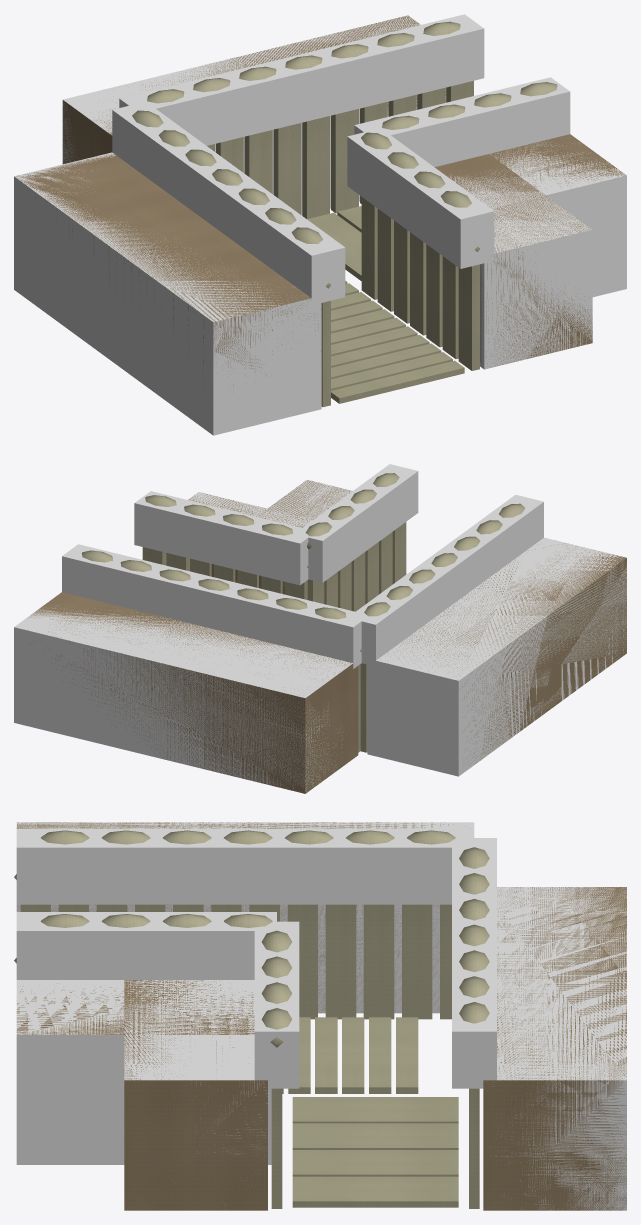
Rendered from TrenchCorner.fbx.
The picture shows the model from 3 angles, top to bottom: view 1: azimuth 30°, elevation 25°; view 2: azimuth 150°, elevation 25°; view 3: azimuth 270°, elevation 25°; orthographic projection. The views are drawn at different scales.
Visible parts, largest first — view 1: COL_Static, LOD0; view 2: COL_Static, LOD0; view 3: COL_Static, LOD0.
Part boxes in pixels (<box>): COL_Static: <box>14,14,626,435</box>; LOD0: <box>16,15,626,407</box>; COL_Static: <box>14,464,626,792</box>; LOD0: <box>28,473,626,793</box>; COL_Static: <box>16,822,626,1210</box>; LOD0: <box>14,822,626,1210</box>.
Size of what is drawn, in the model's own units: 685 by 228 by 683.
